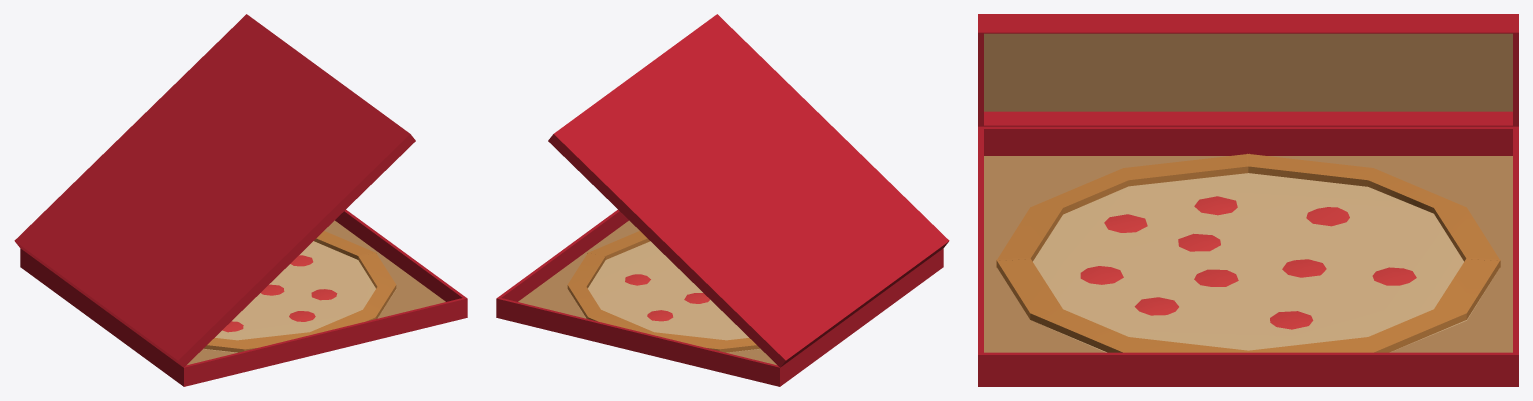
Rendered from lowpoly_pizza_box.glb.
3 renders of one model, left to right at view 1: azimuth 30°, elevation 25°; view 2: azimuth 150°, elevation 25°; view 3: azimuth 270°, elevation 25°, orthographic. The views are drawn at different scales.
Parts seen in each view (by area): view 1: Pizza-Box, Pizza-box, Pizza; view 2: Pizza-Box, Pizza-box, Pizza; view 3: Pizza, Pizza-box, Pizza-Box.
Boxes of the visible parts, bbox=[...] form: Pizza-Box: bbox=[14, 14, 415, 367]; Pizza-box: bbox=[20, 210, 467, 386]; Pizza: bbox=[203, 231, 396, 352]; Pizza-Box: bbox=[548, 14, 949, 367]; Pizza-box: bbox=[496, 210, 943, 386]; Pizza: bbox=[567, 231, 760, 352]; Pizza: bbox=[996, 153, 1500, 352]; Pizza-box: bbox=[978, 126, 1518, 386]; Pizza-Box: bbox=[978, 14, 1518, 126].
Bounding box in the file's own units: 2.04 × 1.33 × 2.
Materials: 10 (10 with a texture image).
